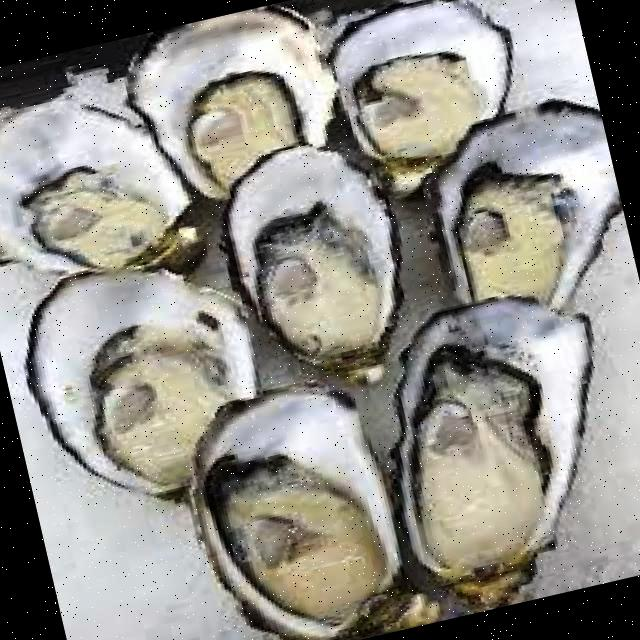Oyster-Open: (397, 301, 593, 606), (25, 271, 259, 502), (187, 390, 403, 640), (224, 147, 403, 388), (127, 8, 336, 198), (15, 93, 223, 279), (445, 101, 614, 310), (329, 5, 508, 198)
